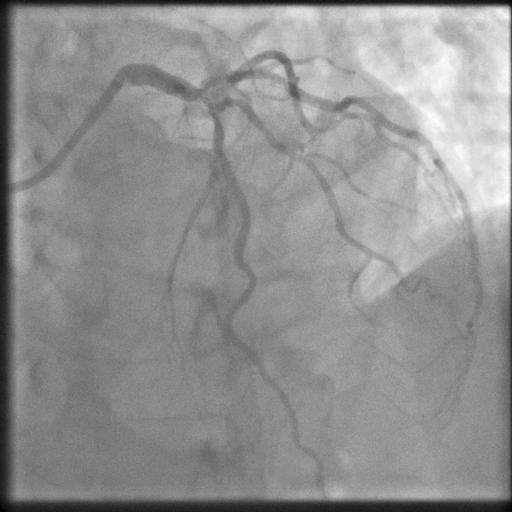Stenosis: (192, 93, 224, 128)
